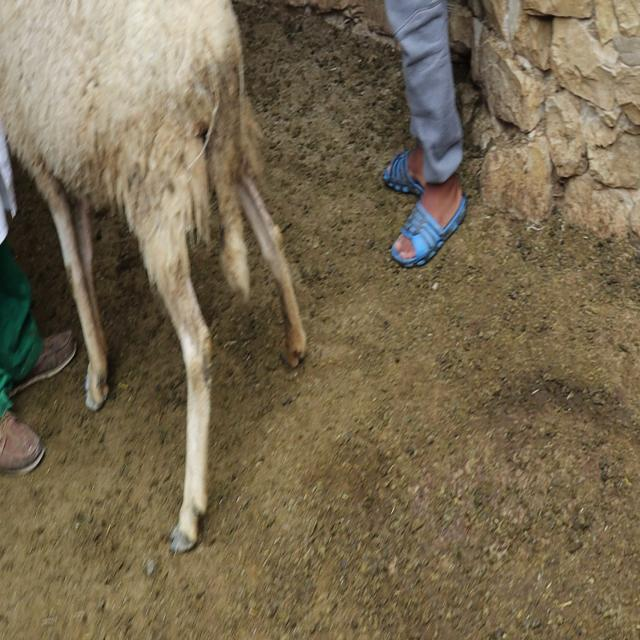Score_2: (0, 0, 306, 551)
